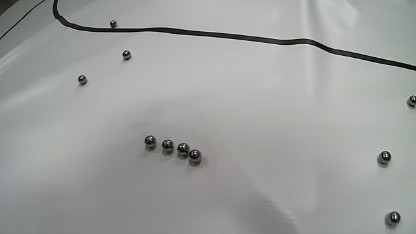ironball: (385, 211, 400, 226), (161, 139, 174, 152), (189, 149, 202, 162), (378, 151, 391, 164), (144, 135, 156, 148), (177, 143, 190, 155), (77, 74, 87, 85), (408, 95, 416, 107), (122, 50, 131, 60), (109, 20, 117, 28)
